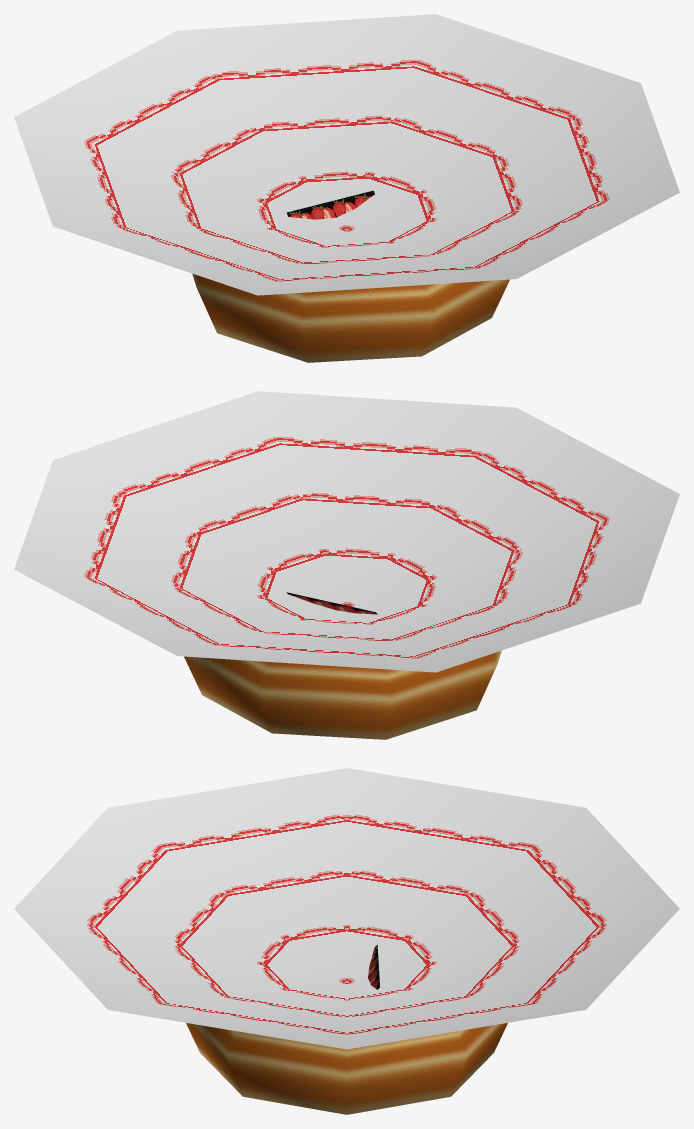
The model's file is 5547u_pan06_ss.gltf.
The picture shows the model from 3 angles, top to bottom: view 1: azimuth 30°, elevation 25°; view 2: azimuth 150°, elevation 25°; view 3: azimuth 270°, elevation 25°; orthographic projection.
Visible parts, largest first — view 1: 5547u_pan06_ss; view 2: 5547u_pan06_ss; view 3: 5547u_pan06_ss.
Part boxes in pixels (left/top/right/bottom): 5547u_pan06_ss: left=14, top=14, right=679, bottom=362; 5547u_pan06_ss: left=14, top=391, right=679, bottom=739; 5547u_pan06_ss: left=14, top=768, right=679, bottom=1114.
Bounding box in the file's own units: 0.8887 × 0.2119 × 0.8887.
4 materials, 4 textured.
